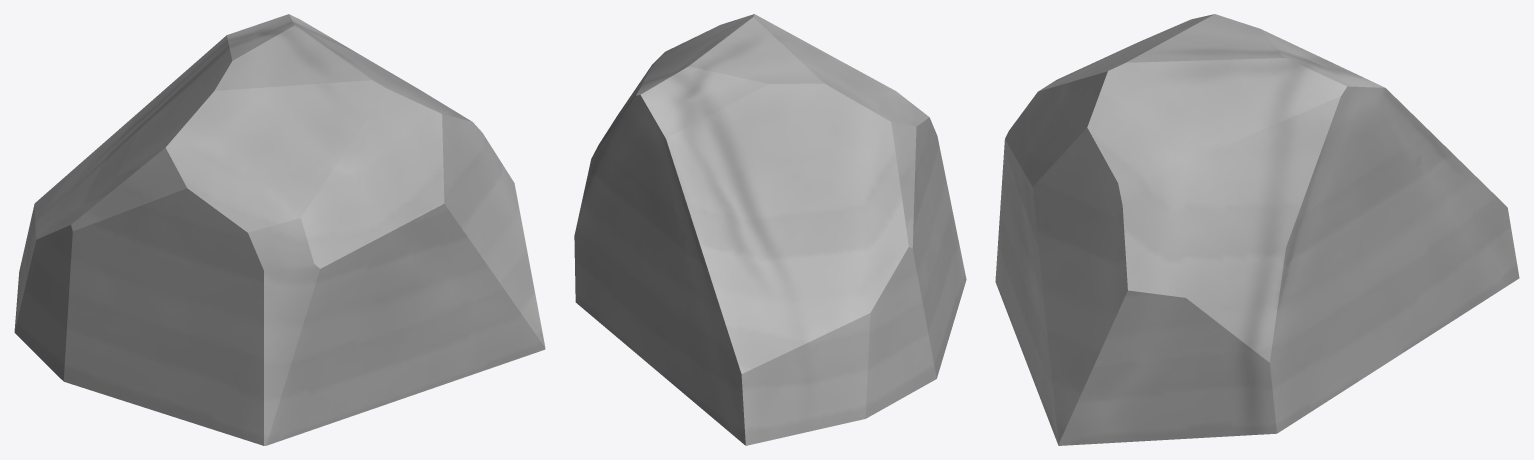
The model's file is sculpted_stone_02.glb.
3 renders of one model, left to right at view 1: azimuth 30°, elevation 25°; view 2: azimuth 150°, elevation 25°; view 3: azimuth 270°, elevation 25°, orthographic. The views are drawn at different scales.
Visible parts, largest first — view 1: sculpted_stone_02; view 2: sculpted_stone_02; view 3: sculpted_stone_02.
Part boxes in pixels (left/top/right/bottom): sculpted_stone_02: left=14, top=14, right=545, bottom=445; sculpted_stone_02: left=574, top=14, right=966, bottom=445; sculpted_stone_02: left=995, top=14, right=1519, bottom=445.
Bounding box in the file's own units: 0.1482 × 0.1018 × 0.156.
Materials: 1 (1 with a texture image).
